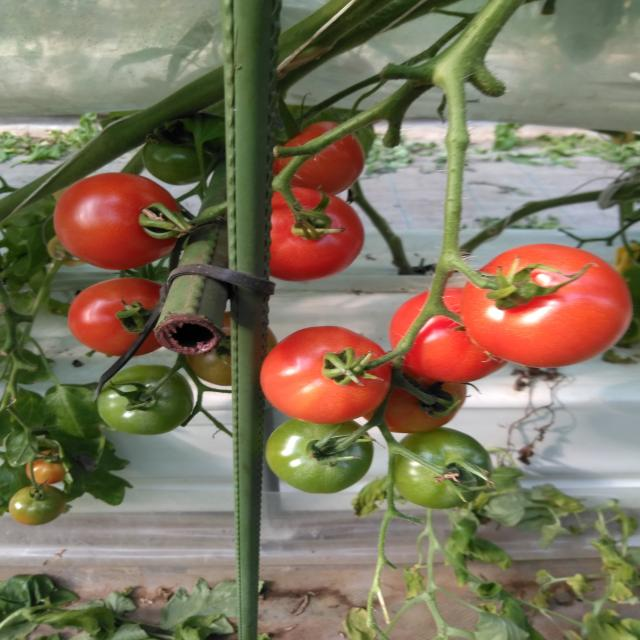c-half-riped: (361, 349, 467, 434), (182, 312, 278, 386), (26, 450, 65, 486)
c-riped: (460, 243, 634, 369), (260, 326, 393, 424), (52, 172, 184, 270), (389, 285, 506, 384), (267, 185, 366, 282), (68, 277, 164, 356), (271, 122, 365, 196)
c-unriped: (391, 426, 493, 509), (264, 418, 373, 494), (97, 364, 193, 435), (142, 127, 218, 186), (9, 482, 66, 526)
